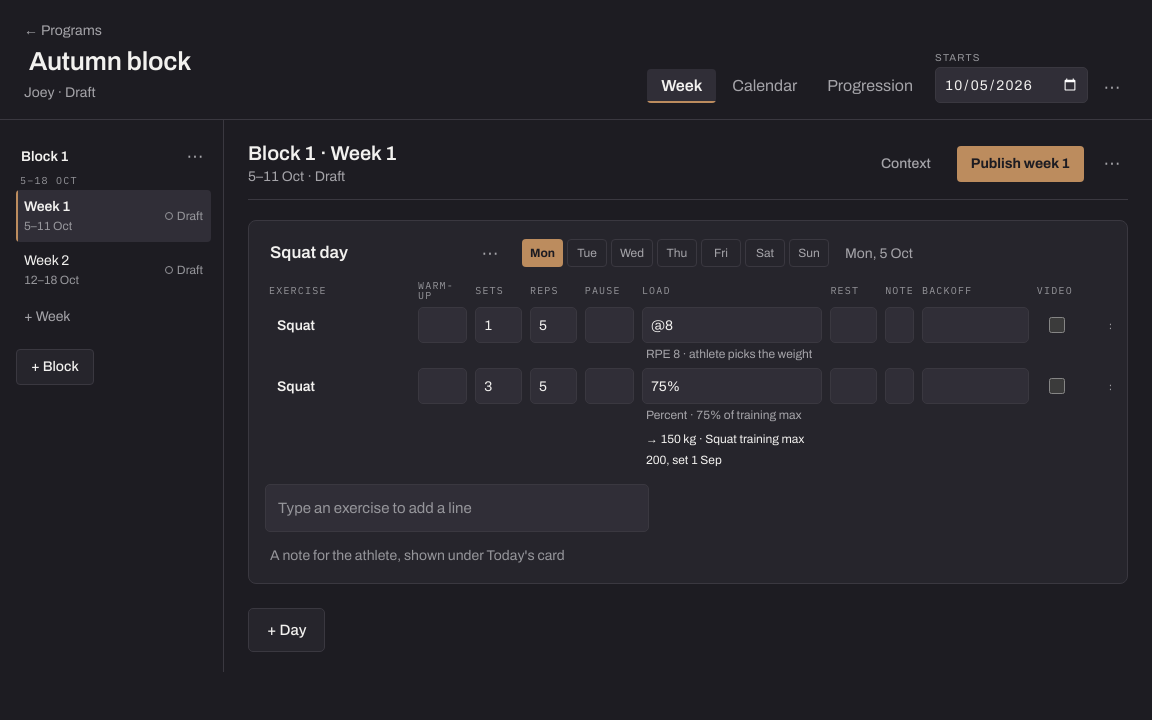
Test: the Program Editor grid › says why a cell will not save, and sends nothing
This screenshot has width=1152, height=720.
Replace the text in the field named "Sets, line 1" with "0" at (499, 325), box [475,307,522,343]
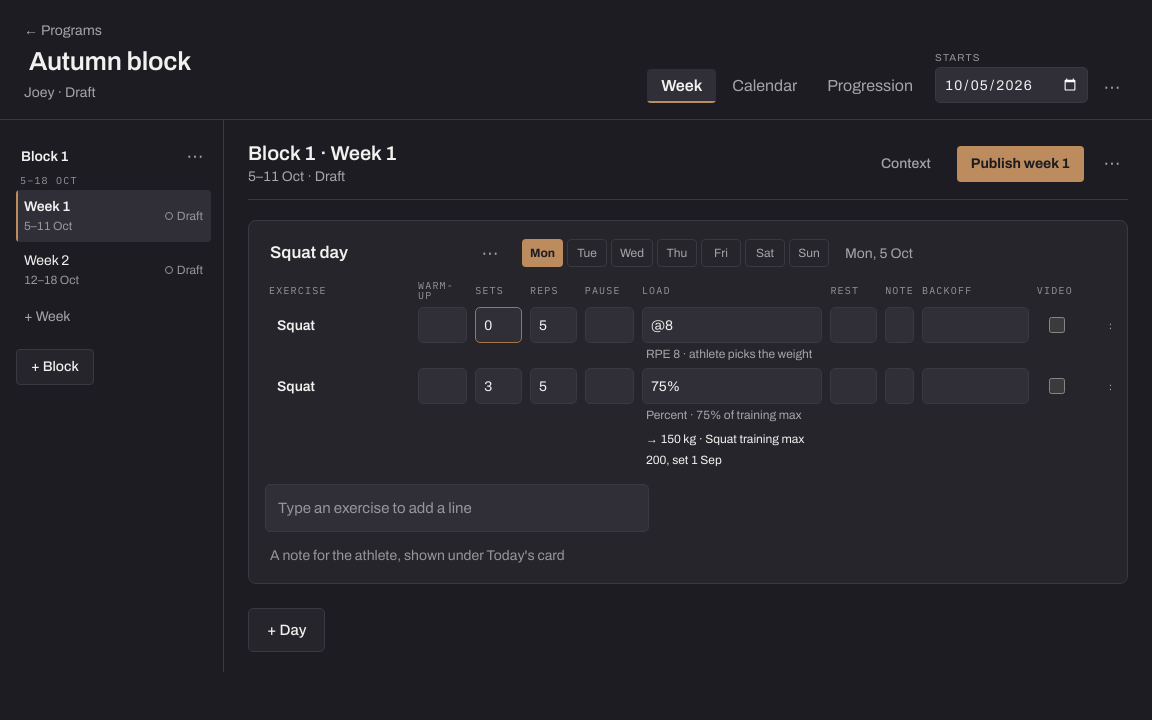
Press Tab
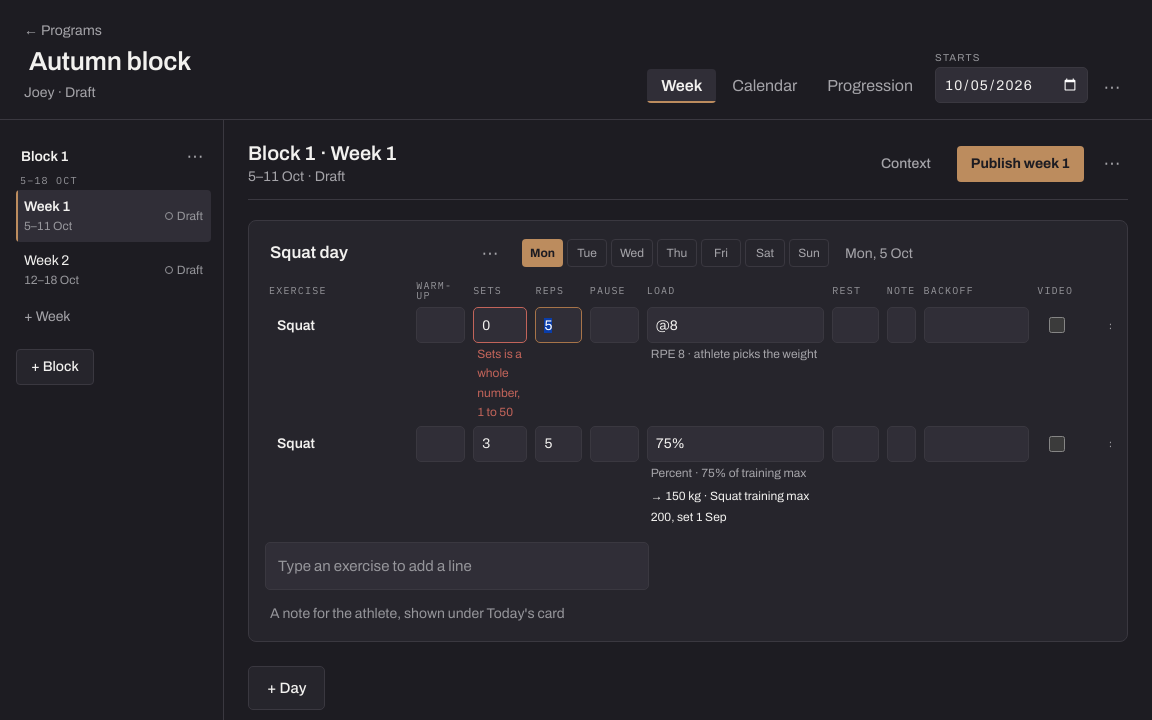
Now the message reads "Sets is a whole number, 1 to 50", box [477,347,522,419]
